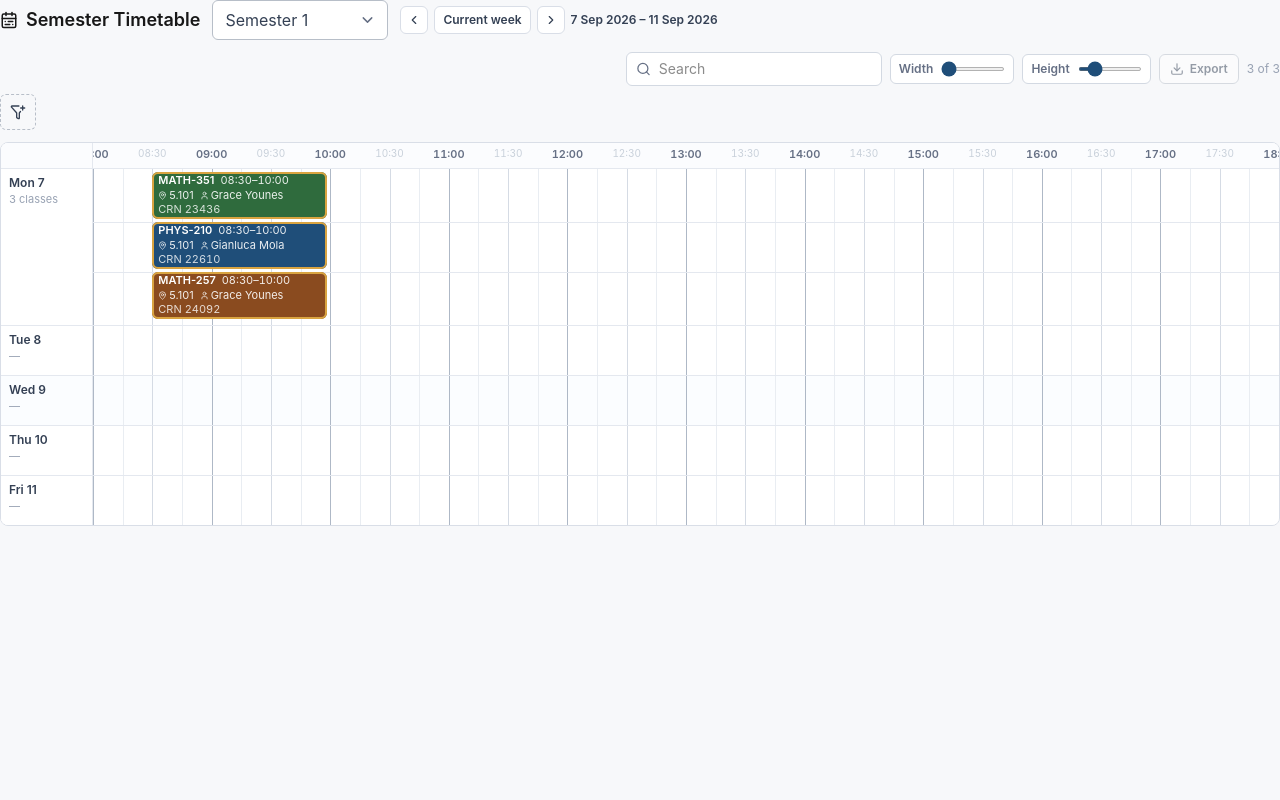
Scenario: a semester's whole week › narrows with the tables' own filters, says so, and can be widened again
Expected: the text "3 of 3" is shown, [1247,61,1279,77]
Click the button named "Filter" at (18, 112), box [0,94,36,130]
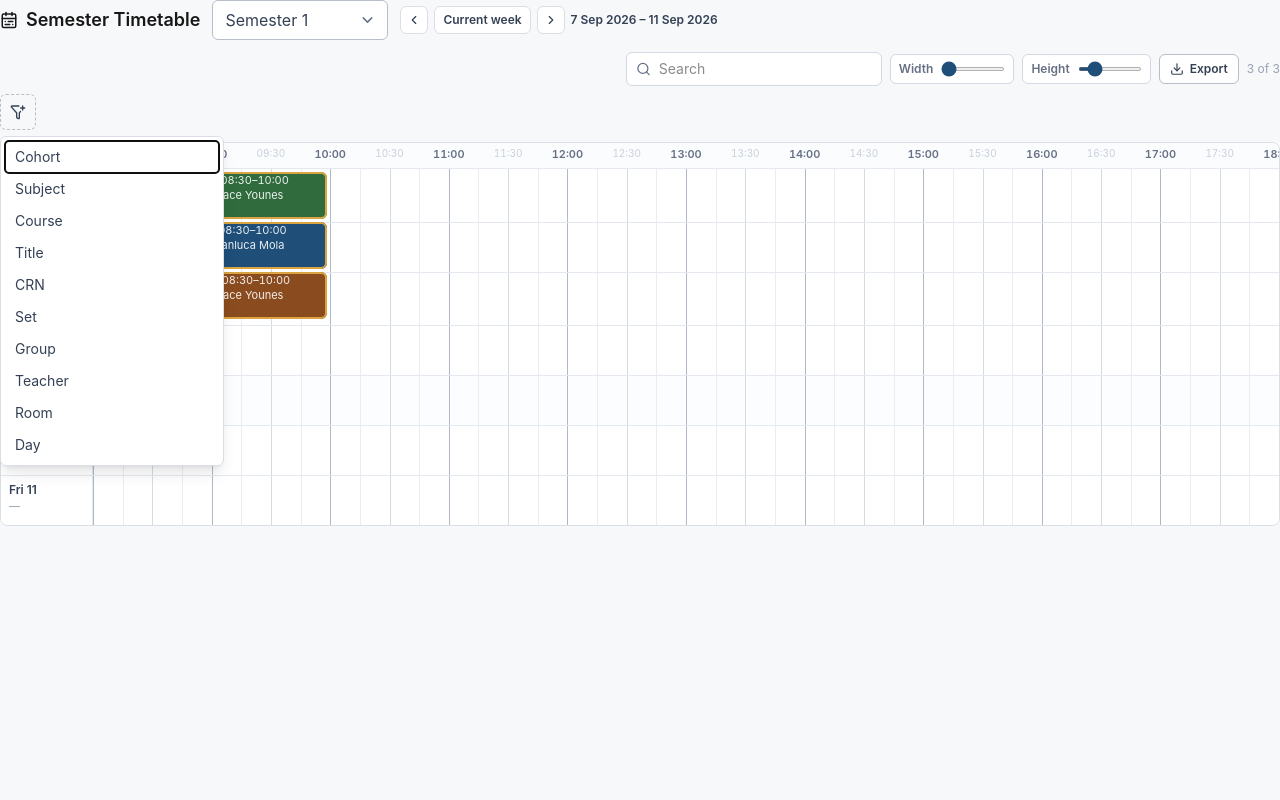
Click the button "Subject" at (112, 189), box [5,173,219,205]
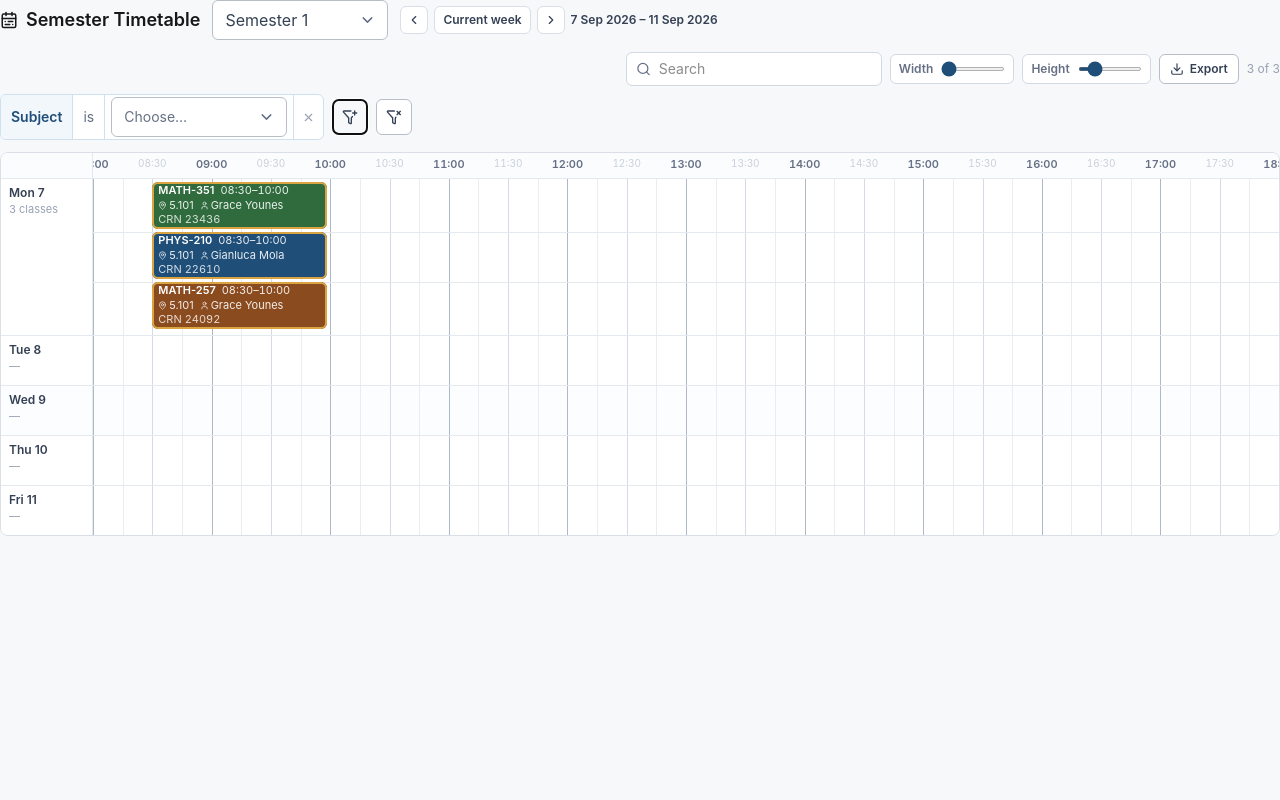
Click the dropdown labelled "Choose…" at (199, 117), box [111,97,287,137]
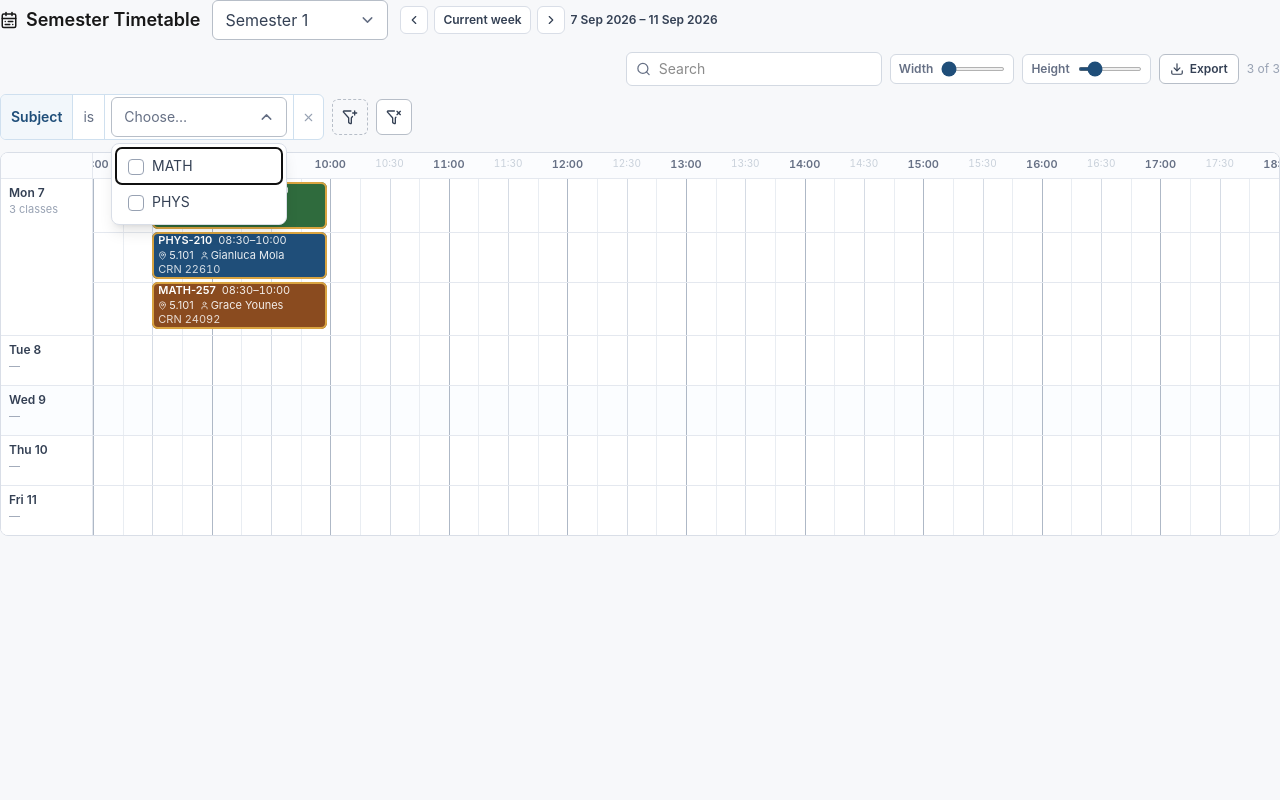
Click the option "MATH" at (199, 166), box [116,148,282,184]
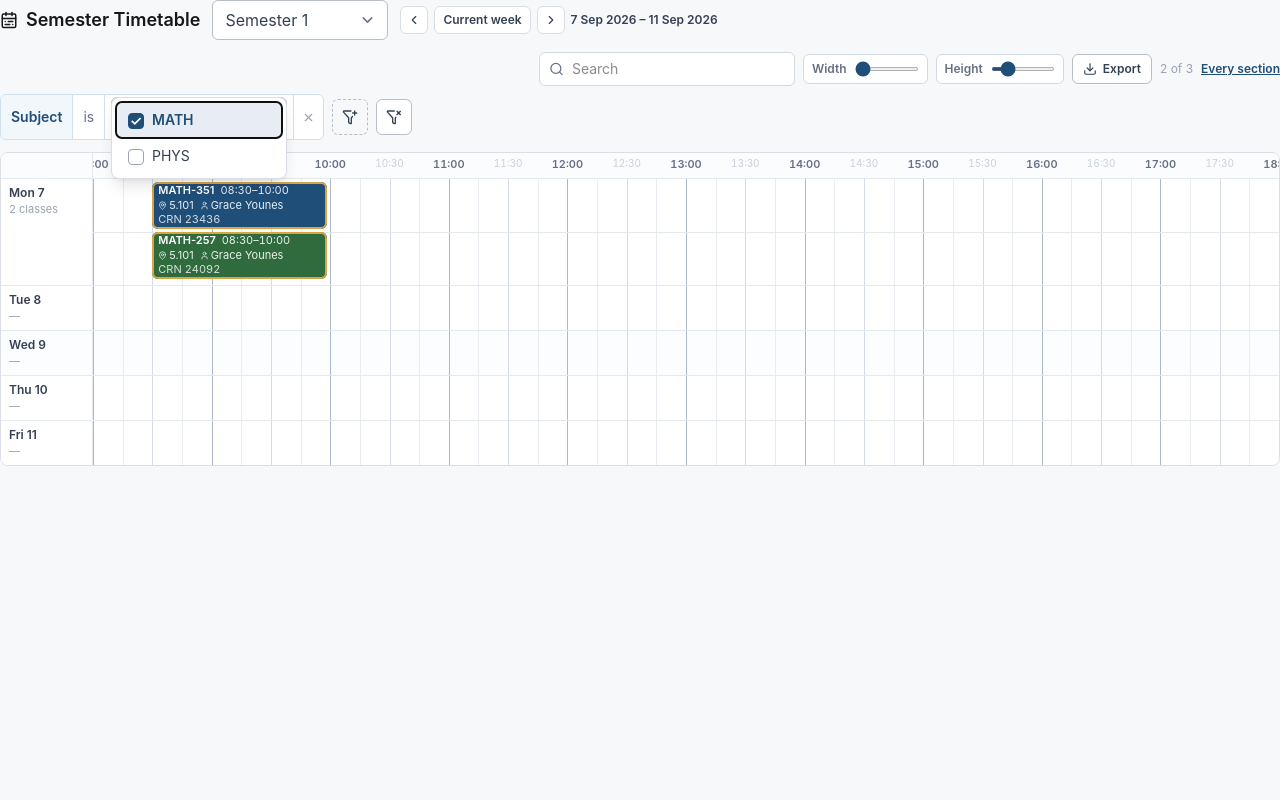
Expected: the text "2 of 3" is shown, [1160,61,1193,77]
Click the button "Every section" at (1241, 69), box [1201,61,1279,77]
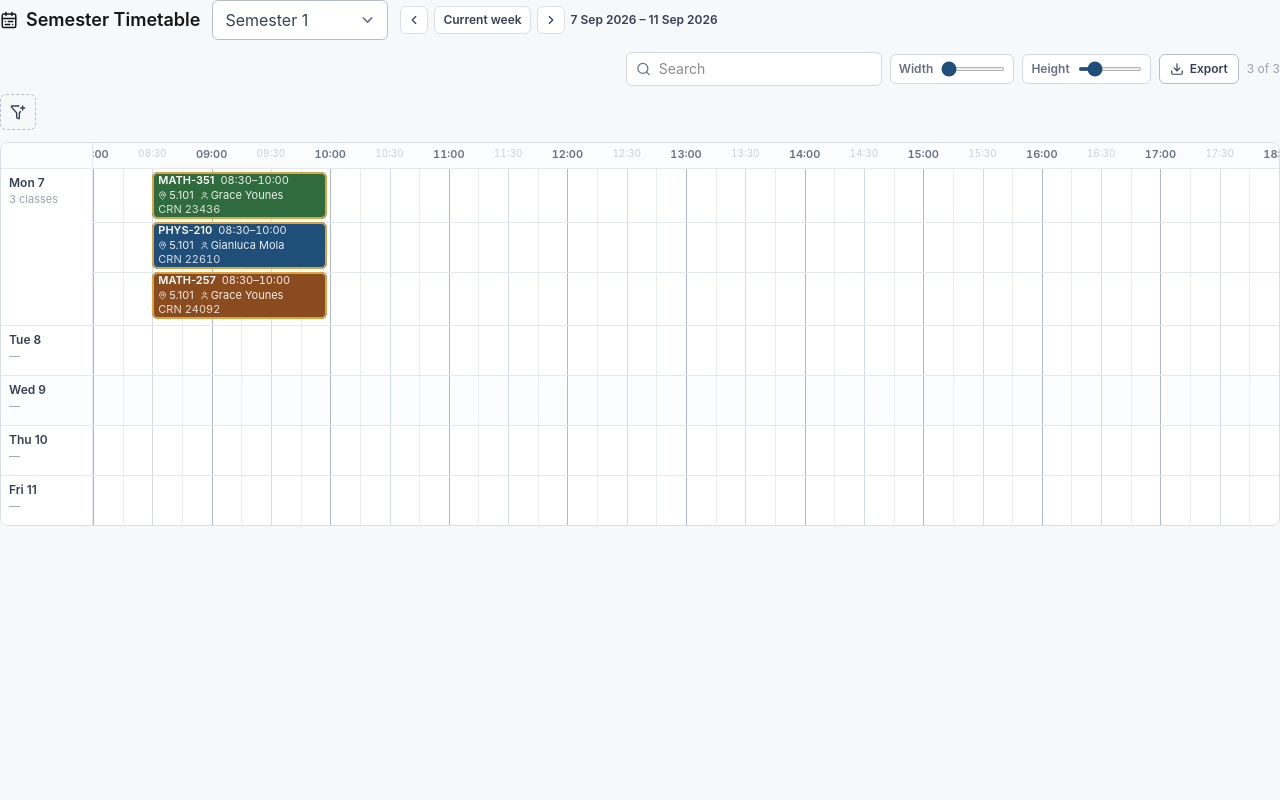
Expected: the text "3 of 3" is shown, [1247,61,1279,77]
